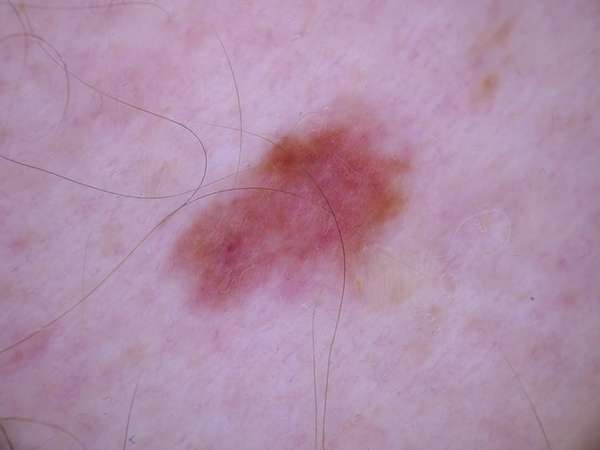Detected Lesion: (170, 117, 432, 319)
